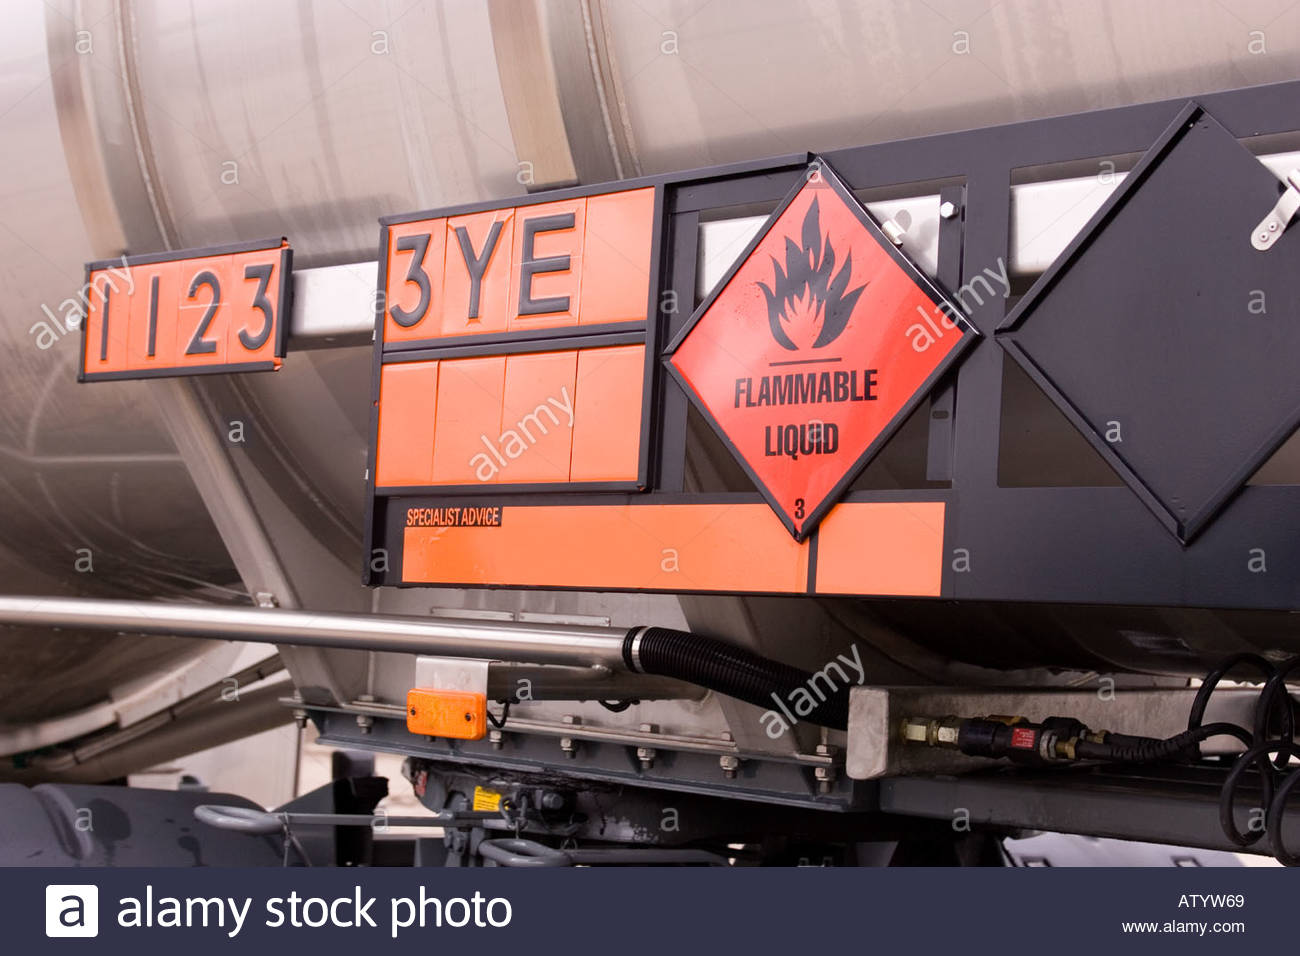FlammableLiquid: (676, 177, 993, 523)
